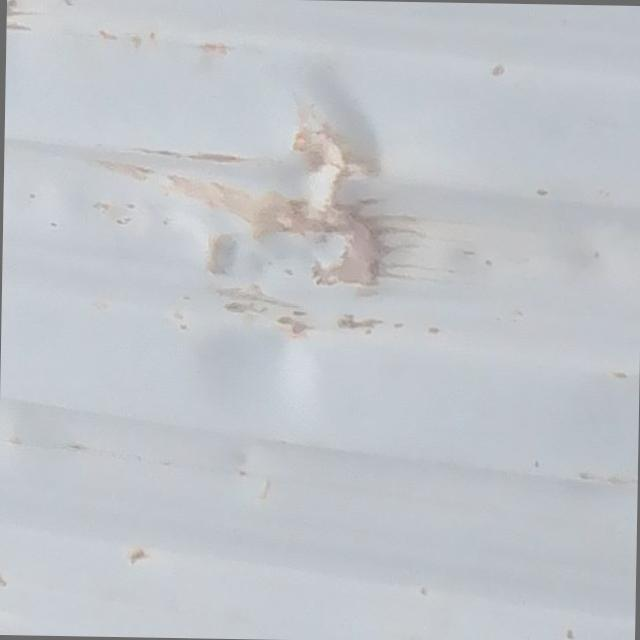rust: (143, 10, 427, 474)
